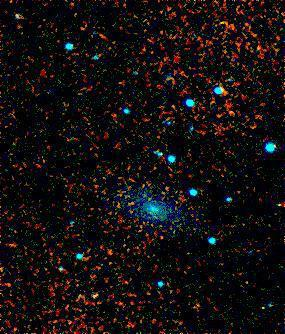star: (215, 95, 245, 125)
